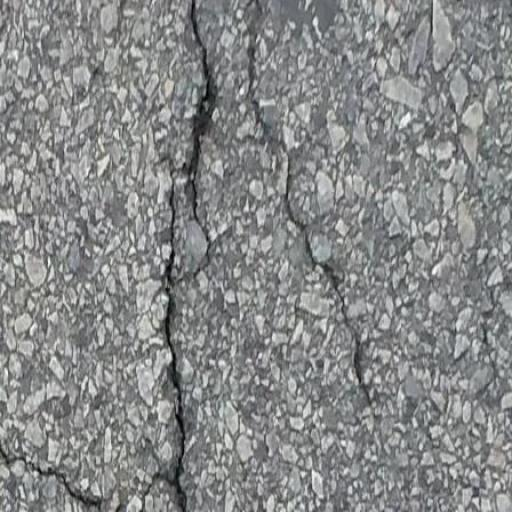spalling: (243, 0, 371, 374), (156, 4, 225, 508)
